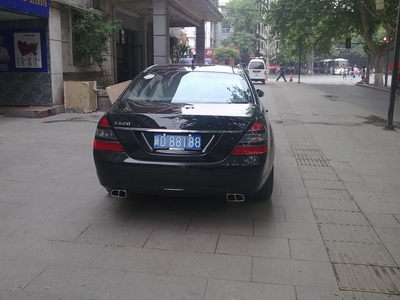plate_number: (153, 134, 202, 148)
